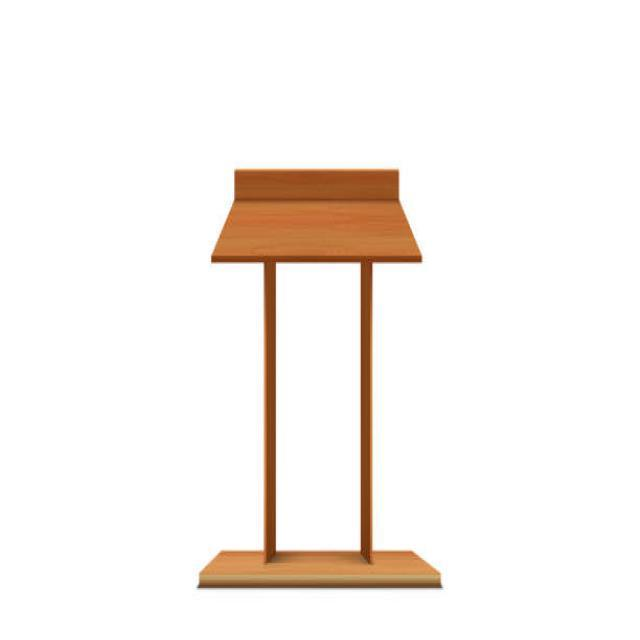table: (196, 166, 442, 588)
